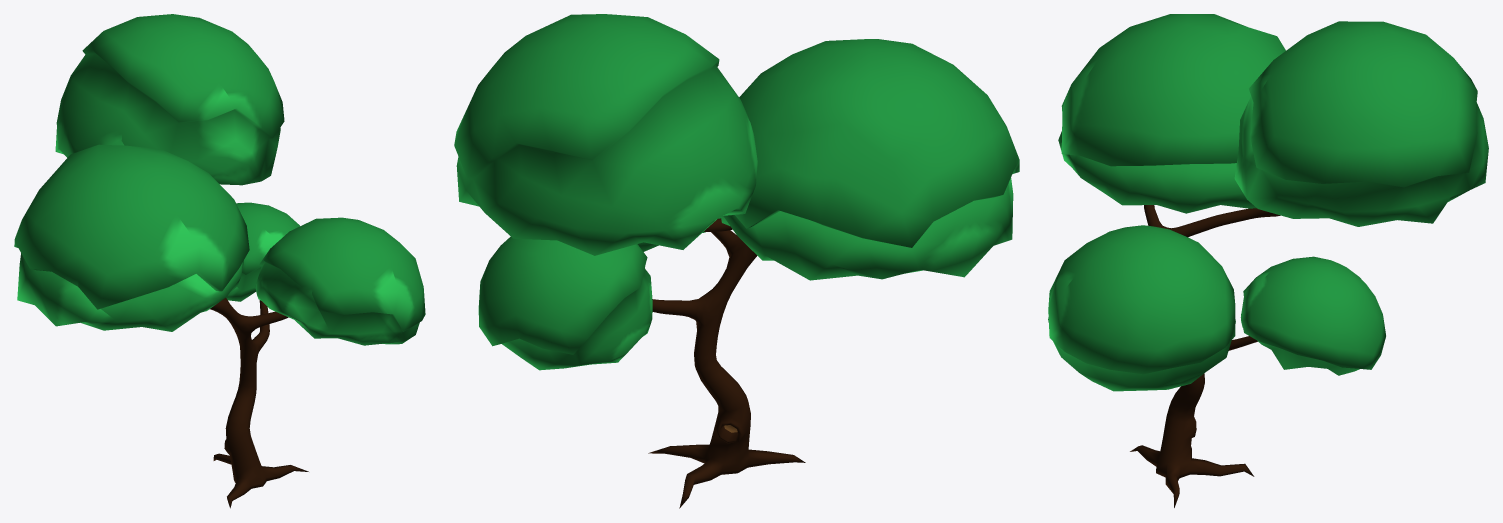
The model's file is trees.glb.
3 views of the same model, side by side, from view 1: azimuth 30°, elevation 25°; view 2: azimuth 150°, elevation 25°; view 3: azimuth 270°, elevation 25° (orthographic). The views are drawn at different scales.
Parts seen in each view (by area): view 1: Icosphere.001, Icosphere, Icosphere.002, Cube, Icosphere.003; view 2: Icosphere, Icosphere.001, Icosphere.003, Cube; view 3: Icosphere, Icosphere.001, Icosphere.002, Icosphere.003, Cube.
Boxes of the visible parts, bbox=[...] form: Icosphere.001: bbox=[14, 144, 249, 331]; Icosphere: bbox=[55, 14, 284, 185]; Icosphere.002: bbox=[255, 217, 425, 345]; Cube: bbox=[210, 298, 308, 508]; Icosphere.003: bbox=[226, 202, 299, 301]; Icosphere: bbox=[454, 14, 757, 255]; Icosphere.001: bbox=[721, 39, 1019, 280]; Icosphere.003: bbox=[478, 236, 652, 370]; Cube: bbox=[648, 218, 805, 508]; Icosphere: bbox=[1234, 21, 1488, 226]; Icosphere.001: bbox=[1058, 14, 1285, 213]; Icosphere.002: bbox=[1048, 225, 1235, 391]; Icosphere.003: bbox=[1240, 256, 1385, 375]; Cube: bbox=[1130, 205, 1280, 507].
Size of the model in its own units: 1.86 by 1.95 by 1.75.
Materials: 1 (1 with a texture image).
